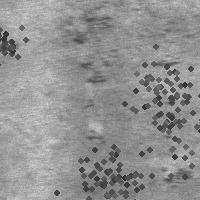rolled-in_scale: (105, 36, 200, 142), (119, 66, 200, 182), (50, 122, 168, 200), (72, 10, 115, 141), (0, 19, 28, 69), (160, 161, 195, 189)
